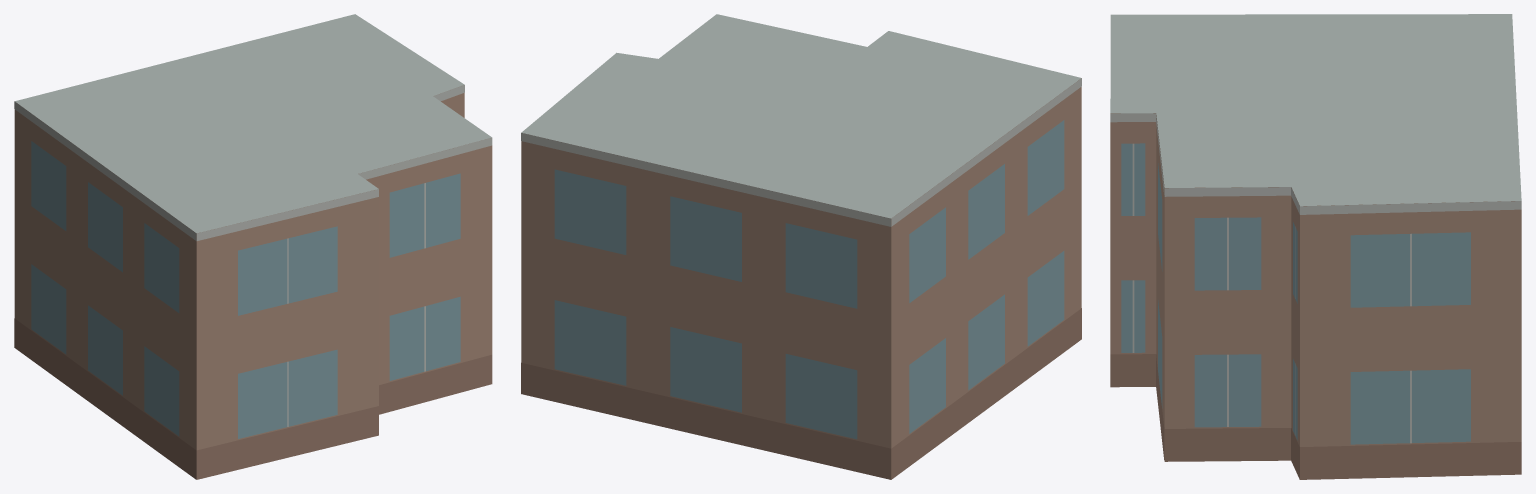
The model's file is survey-upis-32929771.glb.
The picture shows the model from 3 angles, left to right: view 1: azimuth 30°, elevation 25°; view 2: azimuth 150°, elevation 25°; view 3: azimuth 270°, elevation 25°; orthographic projection. The views are drawn at different scales.
Visible parts, largest first — view 1: survey-upis-32929771.tmp; view 2: survey-upis-32929771.tmp; view 3: survey-upis-32929771.tmp.
Boxes of the visible parts, box(x1,y1,x2,y2) form: survey-upis-32929771.tmp: box(14, 14, 492, 479); survey-upis-32929771.tmp: box(521, 14, 1081, 479); survey-upis-32929771.tmp: box(1110, 14, 1521, 479).
Size of the model in its own units: 11.46 by 7.6 by 10.36.
